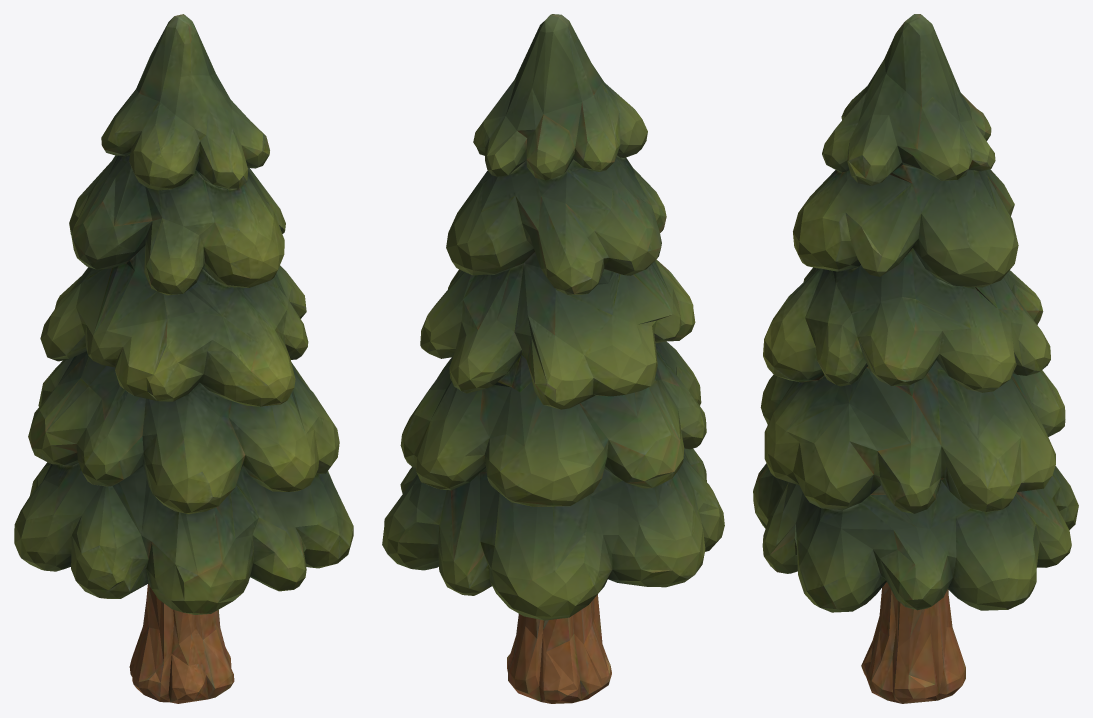
Rendered from fir.glb.
3 renders of one model, left to right at view 1: azimuth 30°, elevation 25°; view 2: azimuth 150°, elevation 25°; view 3: azimuth 270°, elevation 25°, orthographic.
Size of the model in its own units: 0.4749 by 1 by 0.4409.
Materials: 1 (1 with a texture image).
